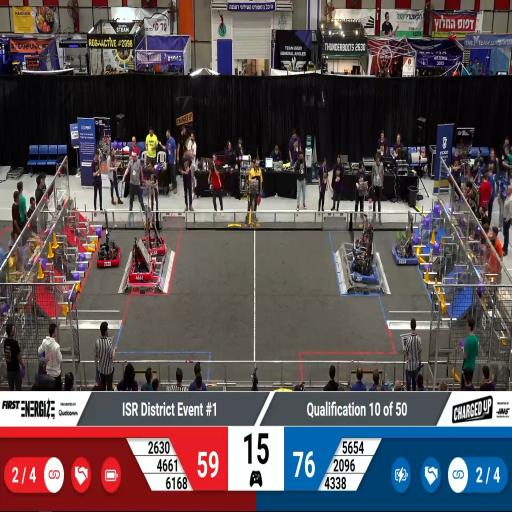robot: (391, 228, 418, 268), (140, 215, 166, 254), (96, 234, 122, 270), (129, 246, 155, 282), (350, 254, 379, 286), (353, 219, 374, 258)
